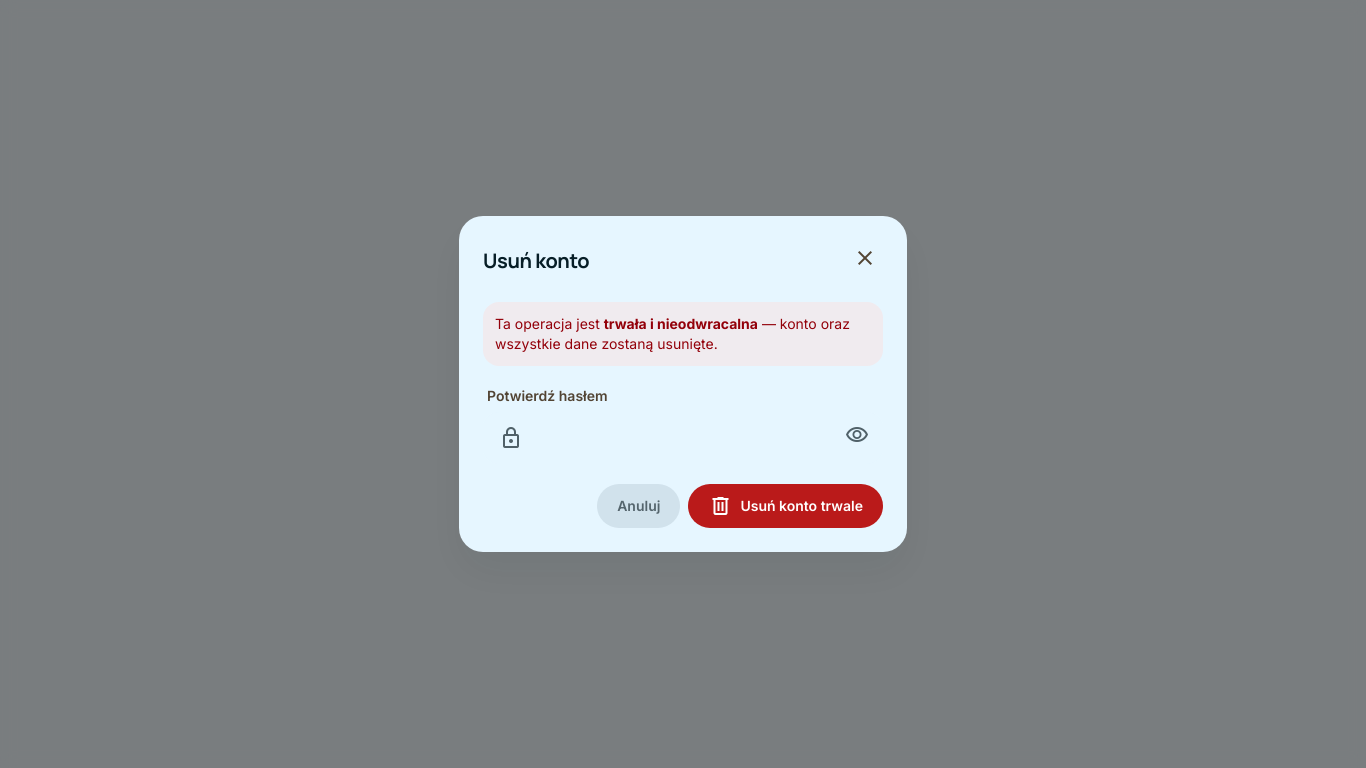
Test: DeleteAccountDialog › 409 CANNOT_REMOVE_LAST_ADMIN → komunikat o ostatnim adminie
Type "haslo123" into the password field labelled "Potwierdź hasłem" at (683, 438), box x1=483 y1=412 x2=883 y2=464
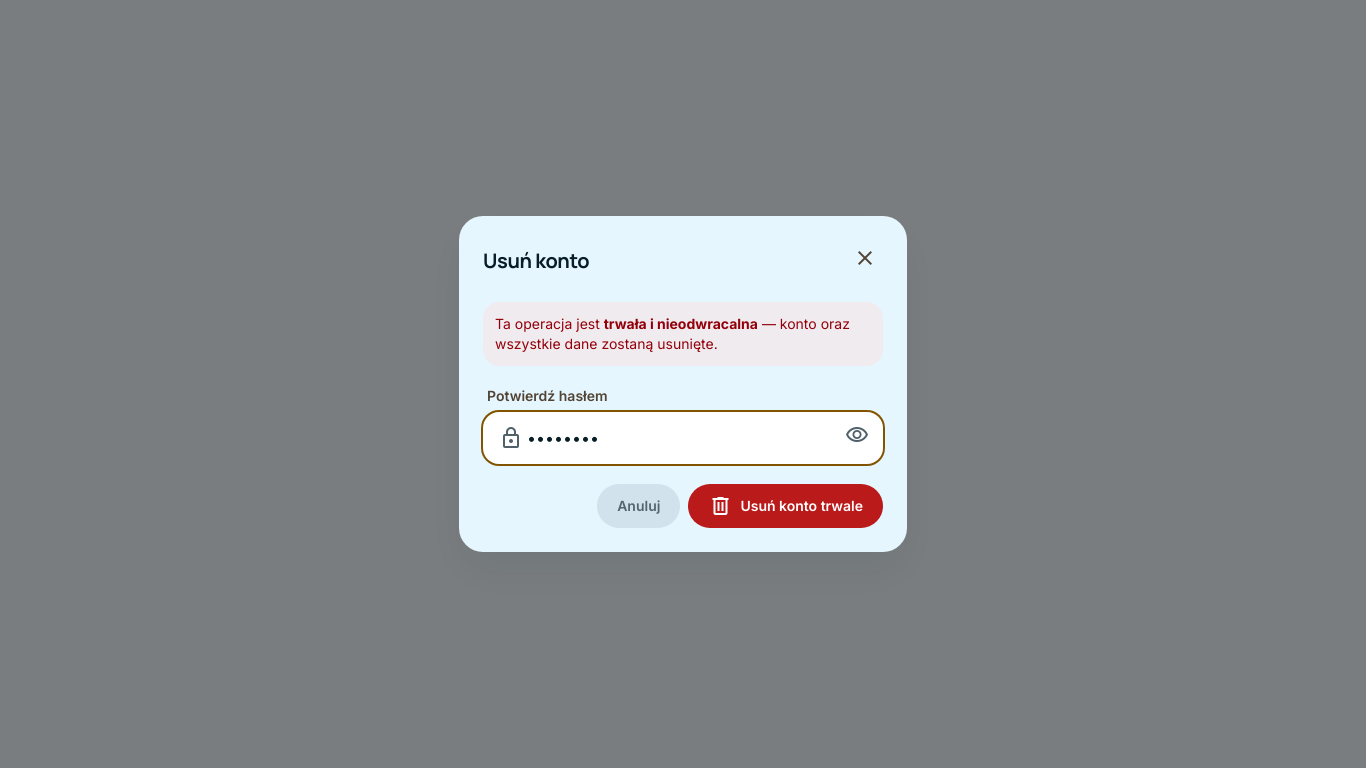
Click the button "Usuń konto trwale" at (786, 506), box x1=688 y1=484 x2=883 y2=528
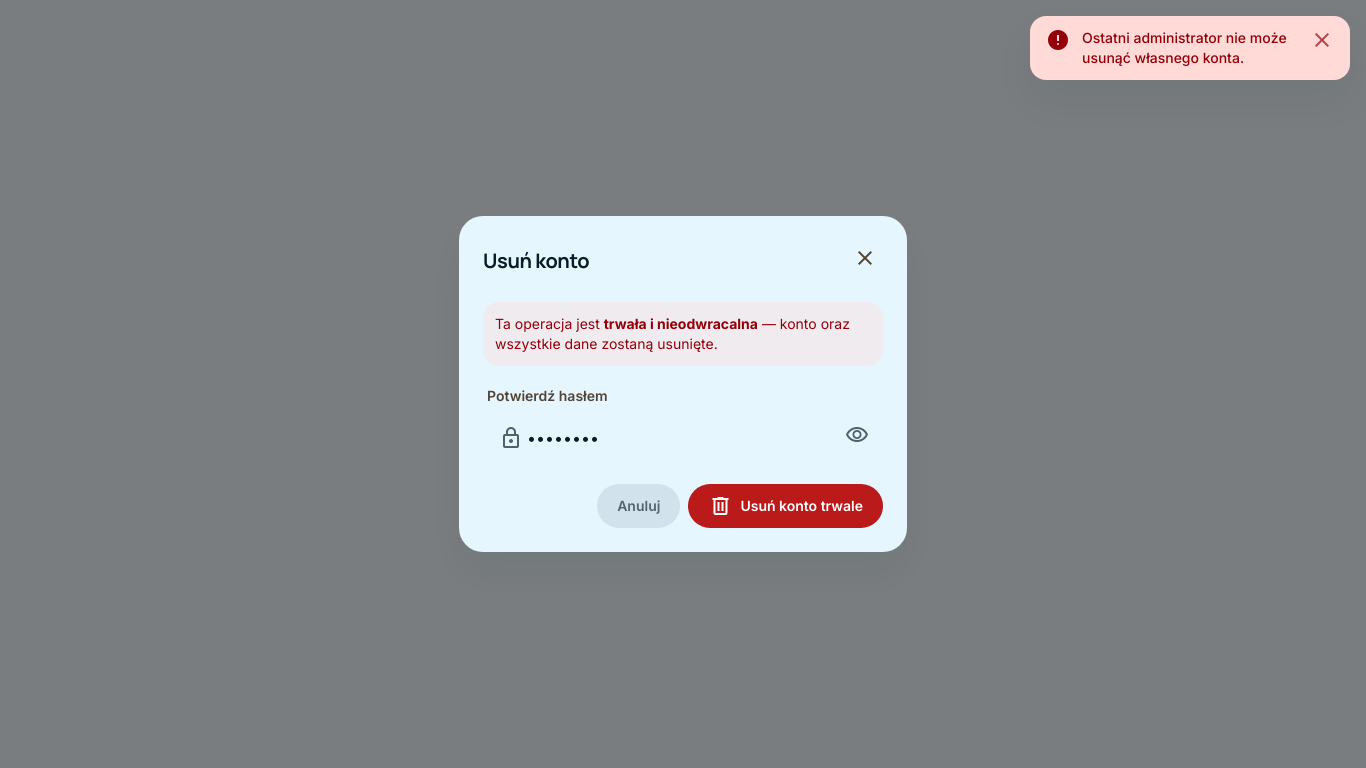
Result: the text "Ostatni administrator nie może usunąć własnego konta." is shown at x1=1082 y1=28 x2=1298 y2=68
